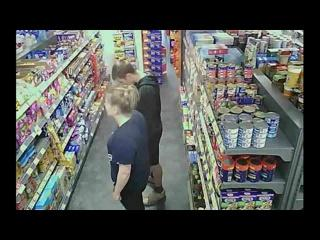Normal: (112, 62, 165, 202), (104, 84, 151, 210)
